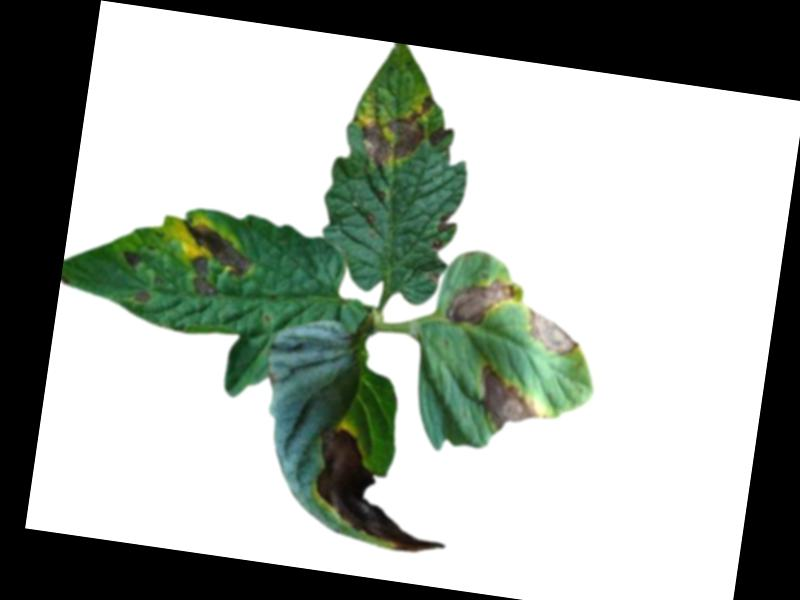Early_blight: (306, 425, 459, 557), (355, 87, 437, 175), (172, 219, 254, 302), (475, 366, 549, 437), (445, 272, 518, 335), (523, 308, 585, 358), (431, 208, 455, 255), (428, 122, 453, 150), (122, 249, 144, 270), (132, 290, 152, 307)
